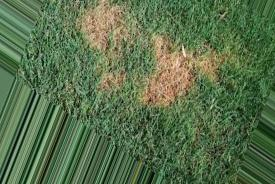patch: (81, 8, 126, 52), (150, 48, 183, 100)
